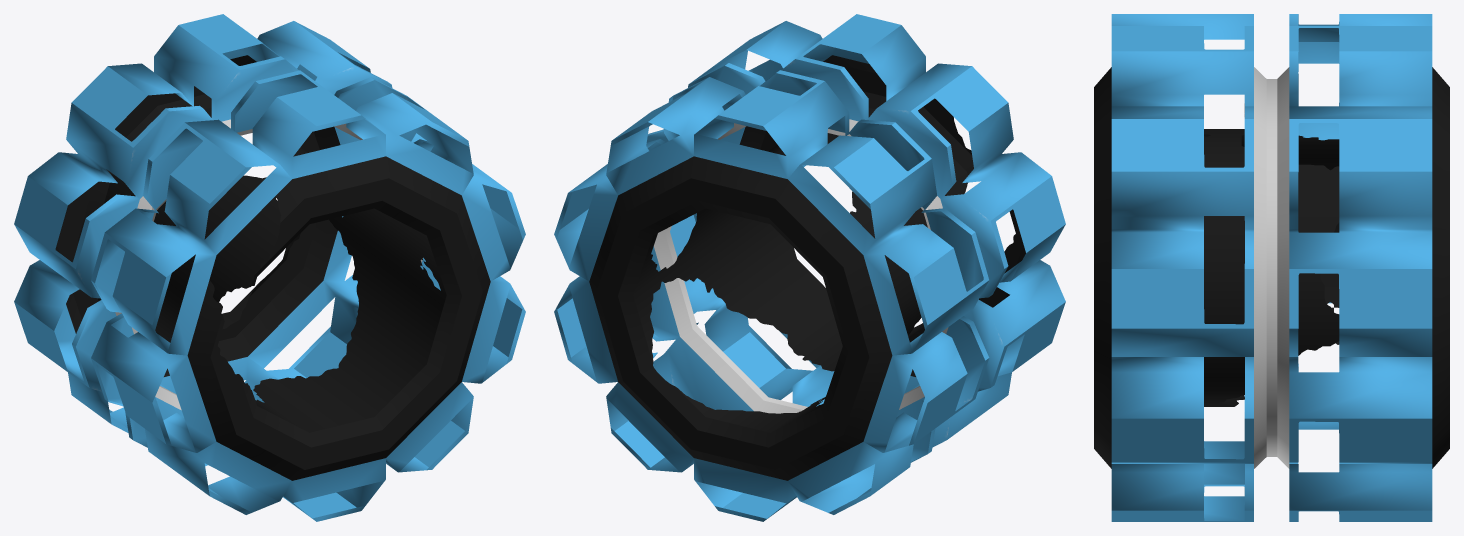
File: counterweight 1.fbx
The picture shows the model from 3 angles, left to right: view 1: azimuth 30°, elevation 25°; view 2: azimuth 150°, elevation 25°; view 3: azimuth 270°, elevation 25°; orthographic projection. The views are drawn at different scales.
Visible parts, largest first — view 1: Counterweight; view 2: Counterweight; view 3: Counterweight.
Part boxes in pixels (x1=…): Counterweight: x1=14, y1=14, x2=525, y2=521; Counterweight: x1=554, y1=14, x2=1065, y2=521; Counterweight: x1=1094, y1=14, x2=1449, y2=521.
Size of the model in its own units: 567 by 574 by 404.
